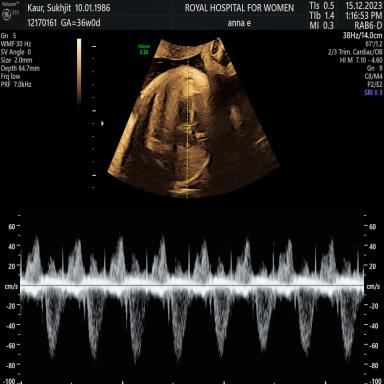Ultrasound-Waves: (26, 212, 361, 384)
